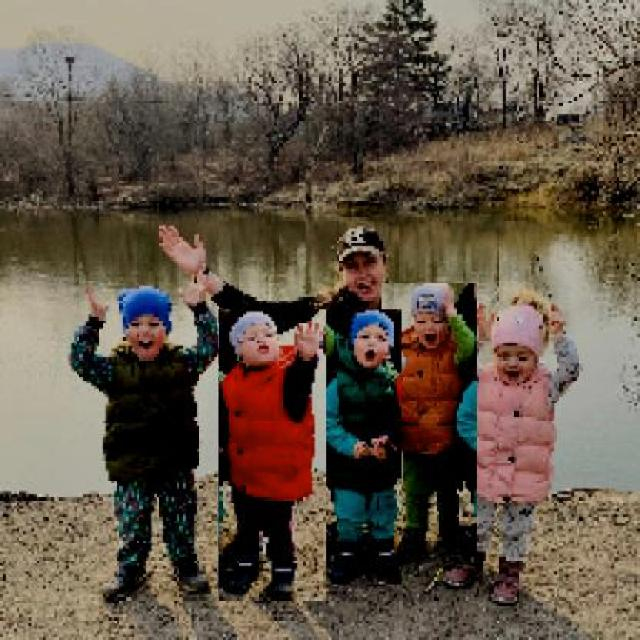adult: (157, 227, 389, 339)
child: (68, 271, 225, 603), (442, 292, 584, 608), (217, 309, 326, 602), (380, 284, 477, 567), (316, 310, 402, 587)
